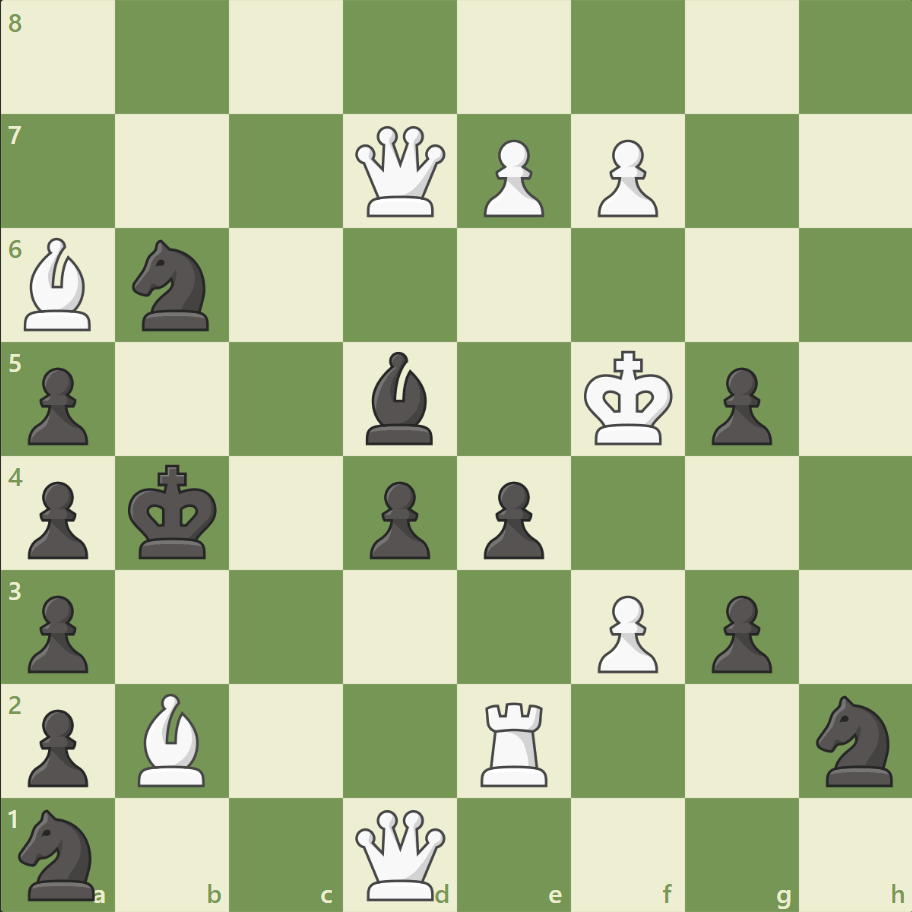B: (17, 233, 101, 336), (131, 687, 215, 790)
K: (579, 344, 679, 452)
P: (474, 132, 549, 223), (588, 132, 662, 223), (588, 586, 662, 677)
Q: (351, 122, 450, 222), (351, 804, 450, 903)
R: (473, 693, 556, 790)
b: (358, 347, 442, 449)
k: (124, 458, 224, 566)
n: (124, 234, 222, 337), (806, 688, 903, 791), (11, 802, 108, 904)
p: (20, 359, 95, 450), (701, 359, 776, 450), (20, 473, 95, 564), (474, 473, 549, 564), (20, 586, 95, 677), (701, 586, 776, 677), (20, 700, 95, 791), (361, 473, 435, 564)
